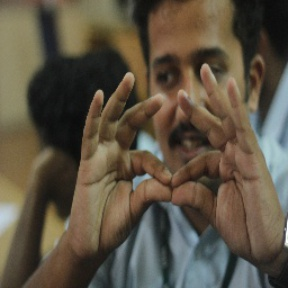B: (112, 138, 236, 221)
